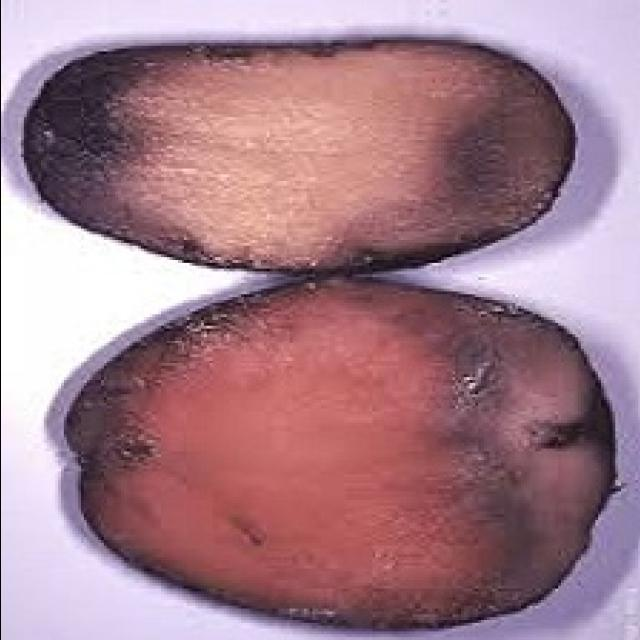pink_rot: (42, 278, 639, 640), (17, 22, 590, 282)
